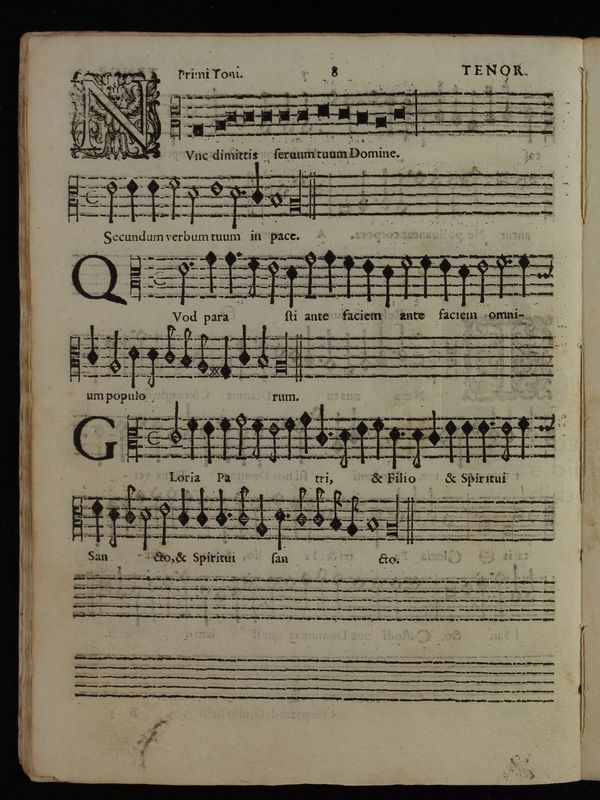barline: (402, 487, 419, 551)
c clef_7: (66, 500, 87, 546)
fusa_6: (104, 501, 122, 554)
fusa_7: (237, 481, 251, 529), (295, 482, 307, 533), (312, 483, 326, 524), (123, 487, 138, 525)
longa_9: (383, 492, 401, 541)
minim_5: (156, 495, 172, 549)
minim_6: (137, 499, 152, 554)
point: (221, 506, 236, 524), (280, 506, 294, 525)
semibreve_8: (360, 513, 381, 537)
semifusa_8: (326, 484, 342, 537)
semifusa_9: (346, 488, 359, 542)
semiminim_5: (88, 499, 104, 546)
semiminim_6: (272, 500, 285, 554)
semiminim_7: (193, 481, 209, 533), (212, 482, 227, 532), (174, 484, 191, 524)
semiminim_9: (252, 488, 268, 542)
